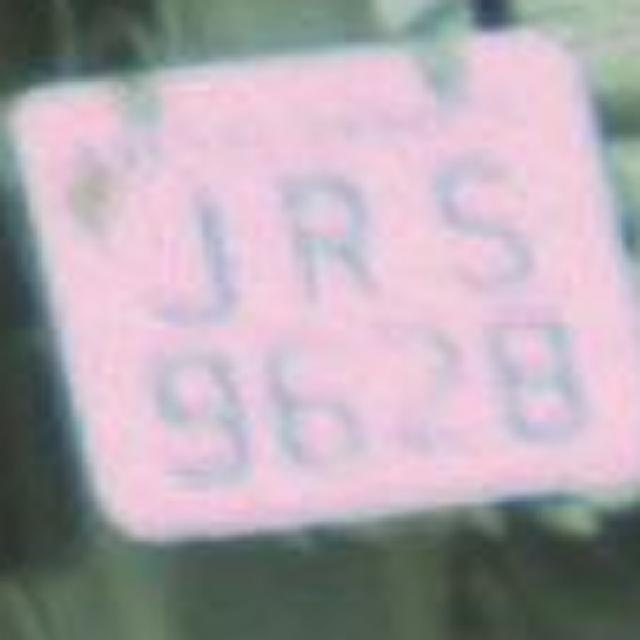2: (356, 285, 492, 480)
6: (244, 300, 388, 505)
8: (472, 276, 608, 452)
9: (128, 324, 268, 504)
J: (128, 171, 264, 344)
R: (251, 152, 404, 316)
S: (408, 132, 544, 292)
